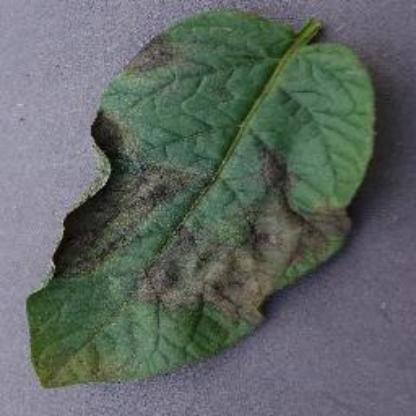Late-Blight: (26, 11, 378, 390)
